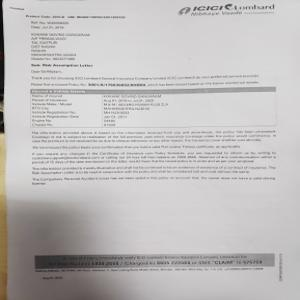image: (177, 1, 280, 19)
text: (30, 149, 279, 184), (25, 10, 128, 75), (29, 88, 172, 129), (25, 75, 272, 92), (32, 130, 276, 145)
